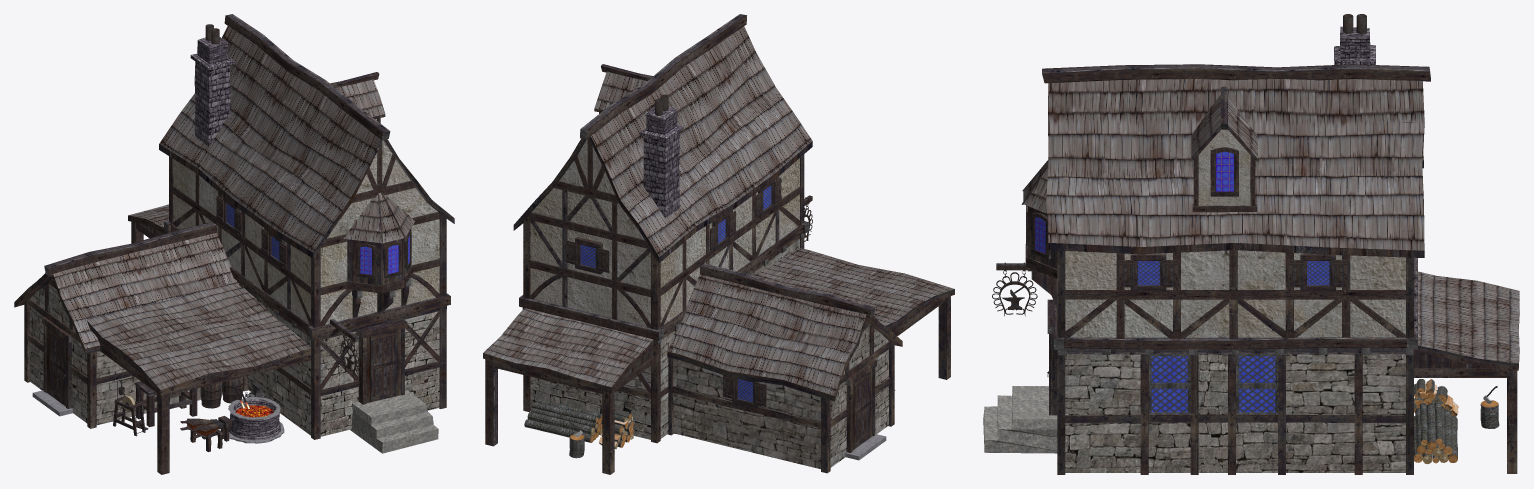
The picture shows the model from 3 angles, left to right: view 1: azimuth 30°, elevation 25°; view 2: azimuth 150°, elevation 25°; view 3: azimuth 270°, elevation 25°; orthographic projection. The views are drawn at different scales.
Parts seen in each view (by area): view 1: Roof, WoodenBeams, Level1, Level2, RoofFrame, Steps, Chimney, DoorFront, WoodenBeamsExtraFront, WindowFrames, Forge (×2), DoorFrontFrame (+6 smaller); view 2: Roof, WoodenBeams, Level1, Level2, RoofFrame, Chimney, WoodenBeamsExtraBack, WindowFrames, PileOfLogs, WoodenBeamsExtraFront, DoorSide, DoorSideFrame; view 3: Roof, WoodenBeams (×2), Level1, Level2, RoofFrame, WindowFrames (×2), Steps, WoodenBeamsExtraBack, PileOfLogs (×2), Level3, Window1Level1, Window2Level1 (+6 smaller).
Boxes of the visible parts, left/top/right/bottom form: Roof: left=53, top=25, right=451, bottom=389; WoodenBeams: left=24, top=118, right=450, bottom=439; Level1: left=29, top=284, right=439, bottom=436; Level2: left=173, top=140, right=439, bottom=324; RoofFrame: left=14, top=14, right=454, bottom=395; Steps: left=350, top=390, right=438, bottom=453; Chimney: left=190, top=37, right=234, bottom=146; DoorFront: left=366, top=329, right=401, bottom=403; WoodenBeamsExtraFront: left=97, top=338, right=310, bottom=474; WindowFrames: left=216, top=195, right=411, bottom=278; Forge (×2): left=228, top=396, right=284, bottom=443; DoorFrontFrame: left=357, top=319, right=407, bottom=404; Roof: left=483, top=26, right=953, bottom=395; WoodenBeams: left=519, top=112, right=894, bottom=473; Level1: left=530, top=239, right=888, bottom=469; Level2: left=530, top=139, right=799, bottom=326; RoofFrame: left=483, top=14, right=954, bottom=401; Chimney: left=640, top=107, right=683, bottom=218; WoodenBeamsExtraBack: left=485, top=347, right=652, bottom=474; WindowFrames: left=565, top=177, right=781, bottom=408; PileOfLogs: left=524, top=399, right=602, bottom=442; WoodenBeamsExtraFront: left=890, top=288, right=950, bottom=379; DoorSide: left=852, top=370, right=872, bottom=450; DoorSideFrame: left=846, top=359, right=876, bottom=452; Roof: left=1023, top=79, right=1519, bottom=363; WoodenBeams (×2): left=1021, top=114, right=1417, bottom=474; Level1: left=1065, top=354, right=1405, bottom=472; Level2: left=1065, top=250, right=1405, bottom=337; RoofFrame: left=1042, top=64, right=1519, bottom=370; WindowFrames (×2): left=1026, top=147, right=1348, bottom=414; Steps: left=983, top=386, right=1057, bottom=453; WoodenBeamsExtraBack: left=1414, top=352, right=1517, bottom=473; PileOfLogs (×2): left=1414, top=401, right=1457, bottom=464; Level3: left=1198, top=129, right=1250, bottom=205; Window1Level1: left=1151, top=356, right=1187, bottom=412; Window2Level1: left=1239, top=356, right=1275, bottom=412.
Size of the model in its own units: 9.83 by 9.81 by 12.14.
Materials: 23 (23 with a texture image).
